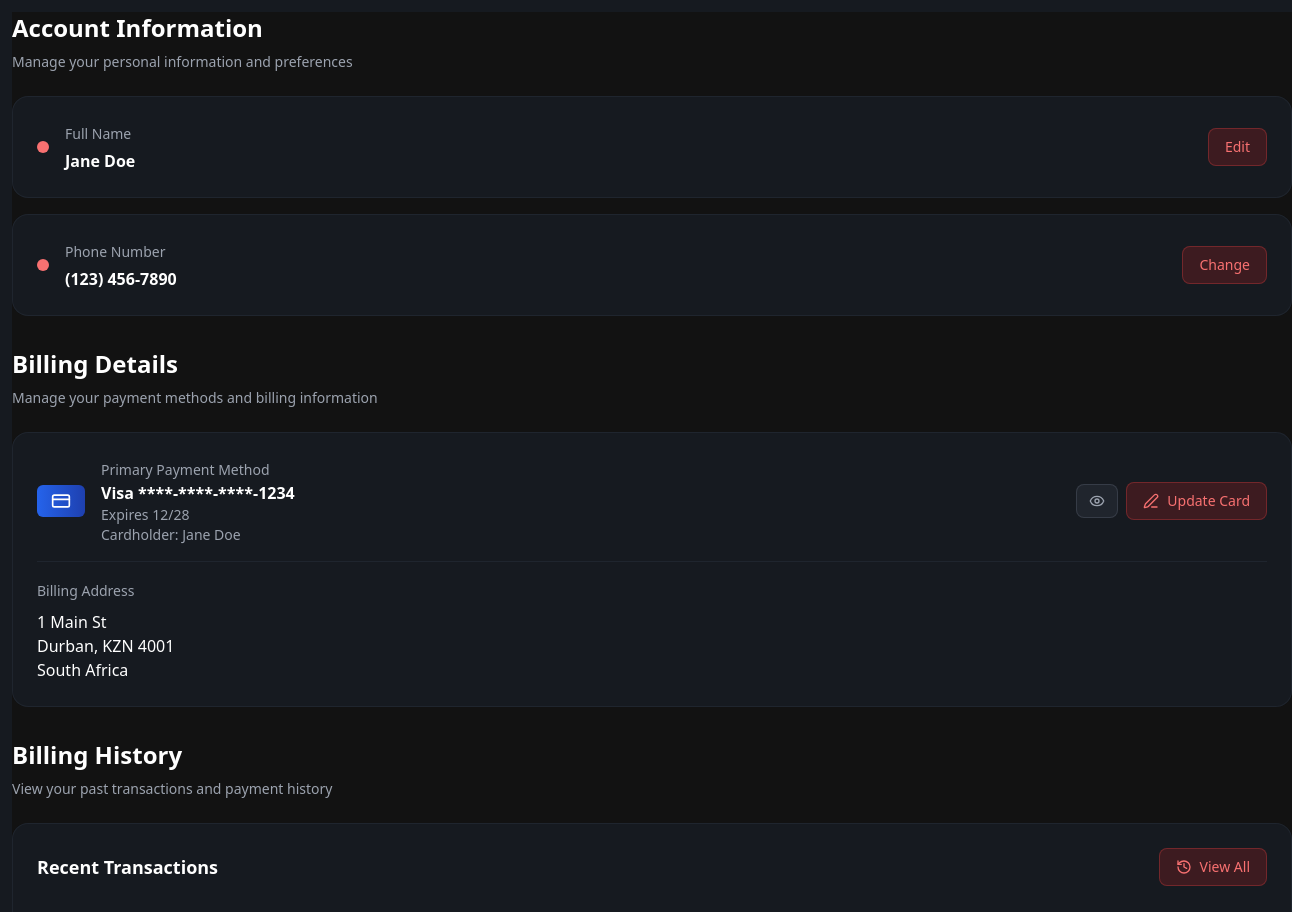
Test case: MembershipBilling › cancel phone edit restores original value and skips update
This screenshot has width=1292, height=912.
Click the button "Change" at (1225, 265), box 1182,246 -> 1267,284
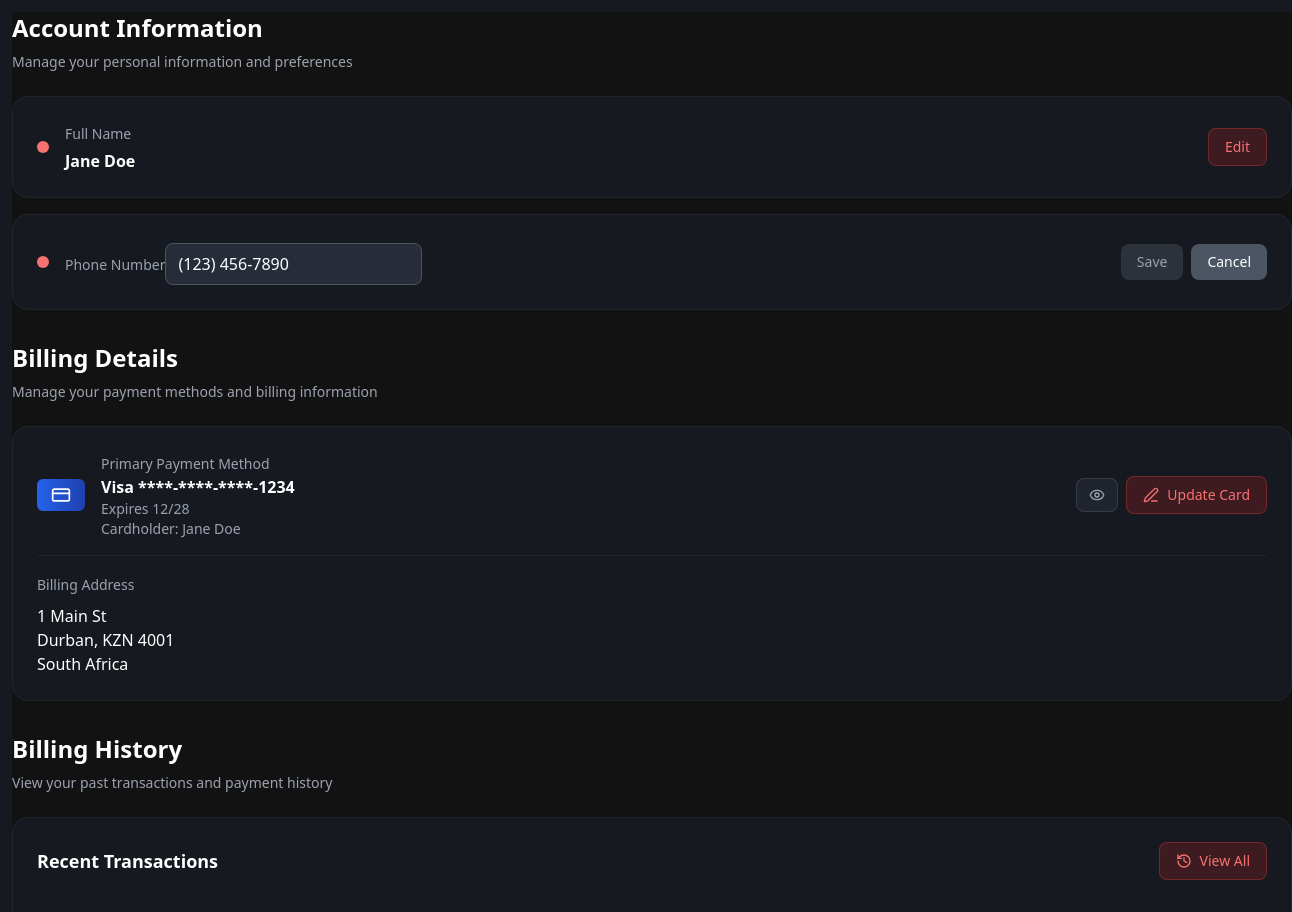
Replace the text in the field labelled "Phone Number" with "123" at (294, 264), box 166,243 -> 422,285
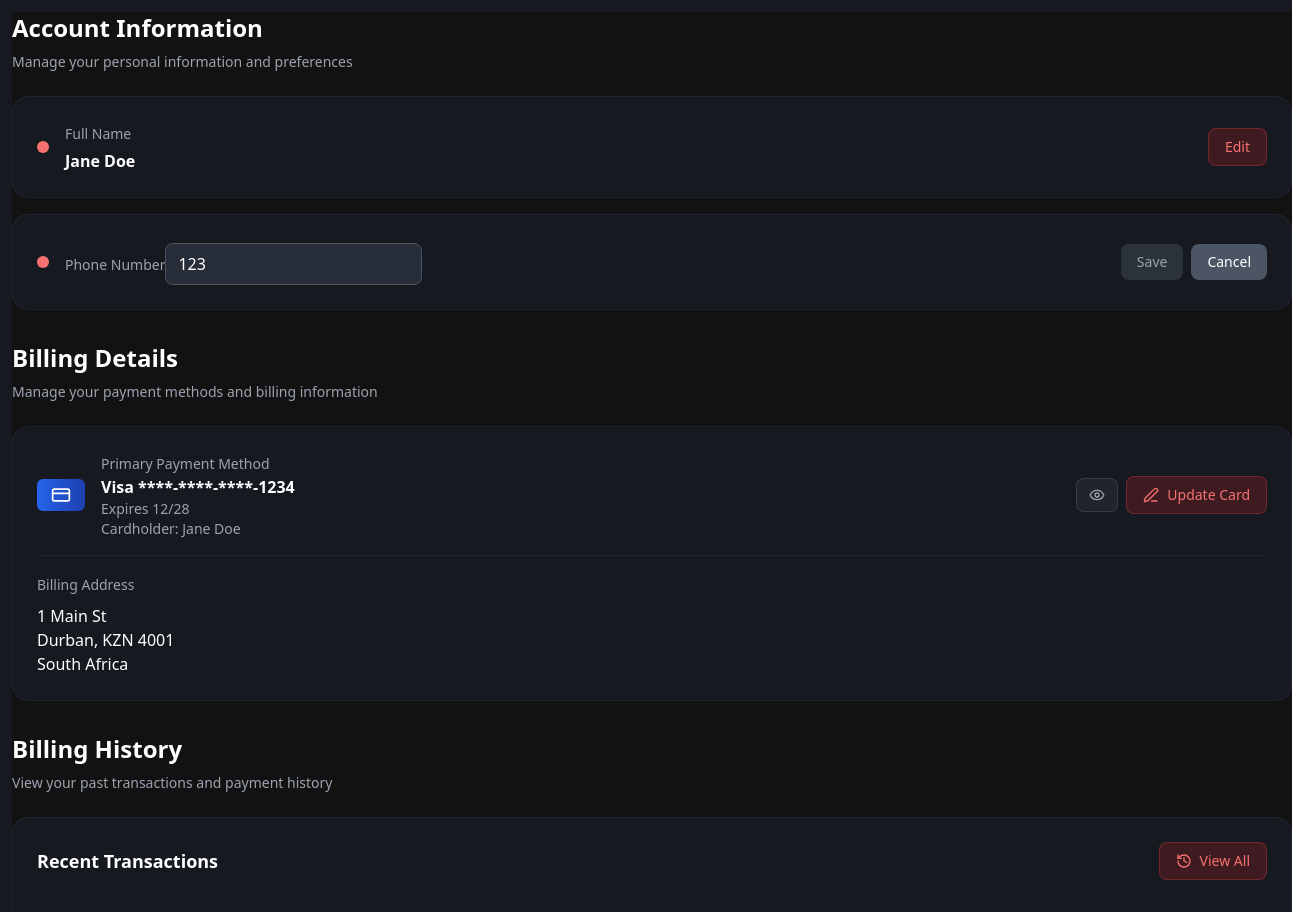
Expected: the button "Save" is disabled, 1121,244 -> 1183,280
Replace the text in the field labelled "Phone Number" with "1234567890" at (294, 264), box 166,243 -> 422,285
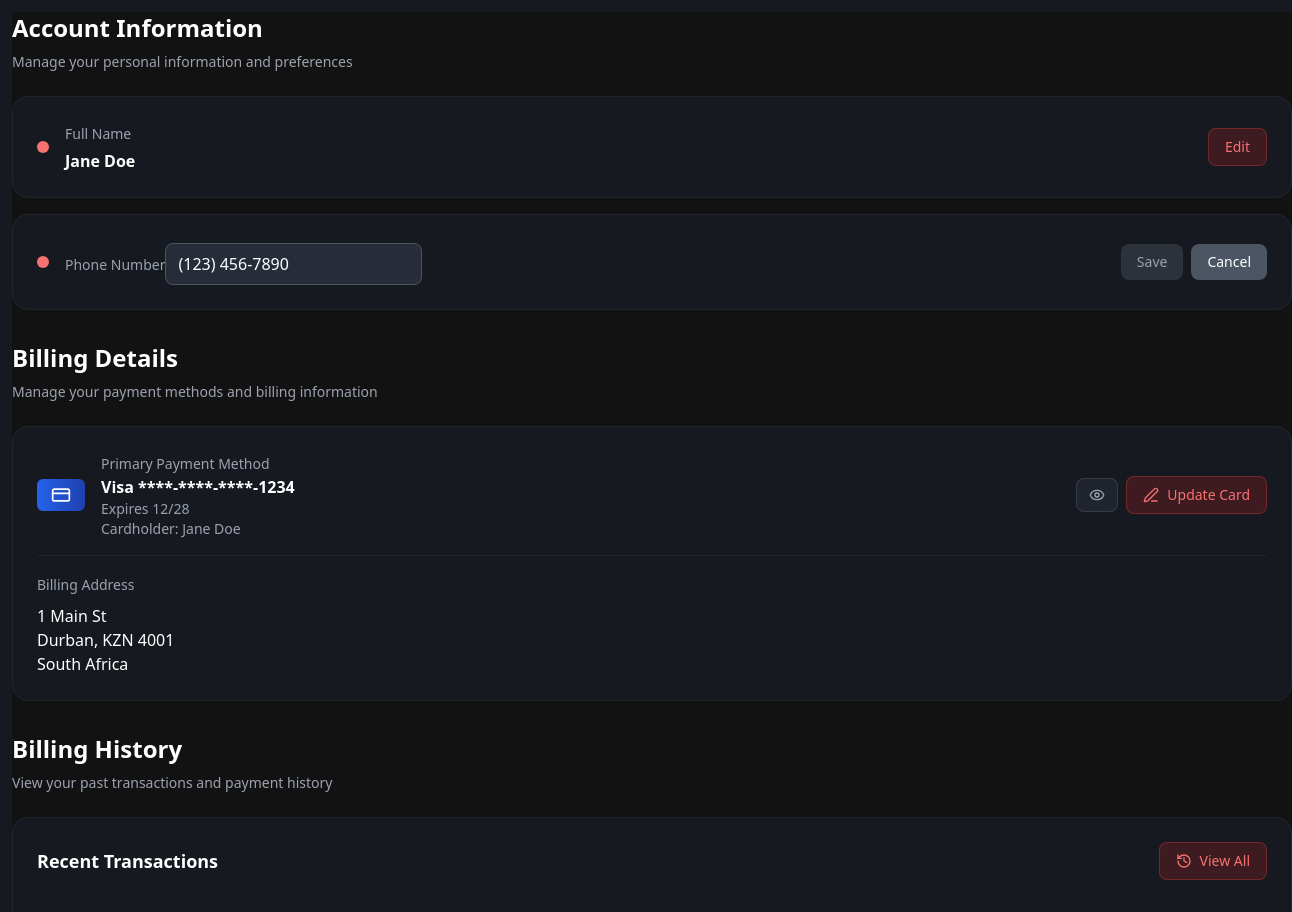
Expected: the button "Save" is disabled, 1121,244 -> 1183,280
Replace the text in the field labelled "Phone Number" with "2223334444" at (294, 264), box 166,243 -> 422,285
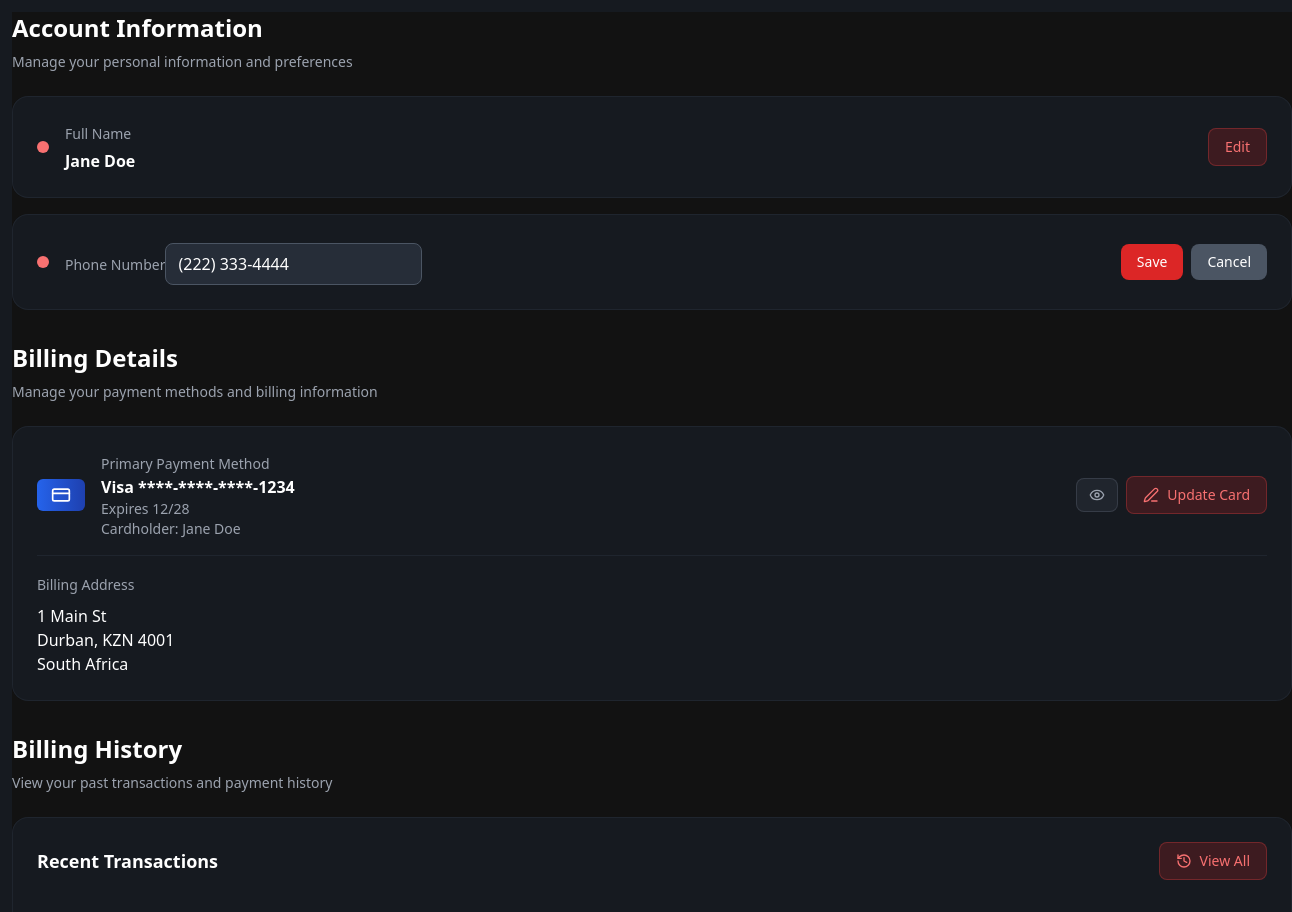
Expected: the button "Save" is enabled, 1121,244 -> 1183,280
Click the button "Cancel" at (1229, 262), box 1191,244 -> 1267,280
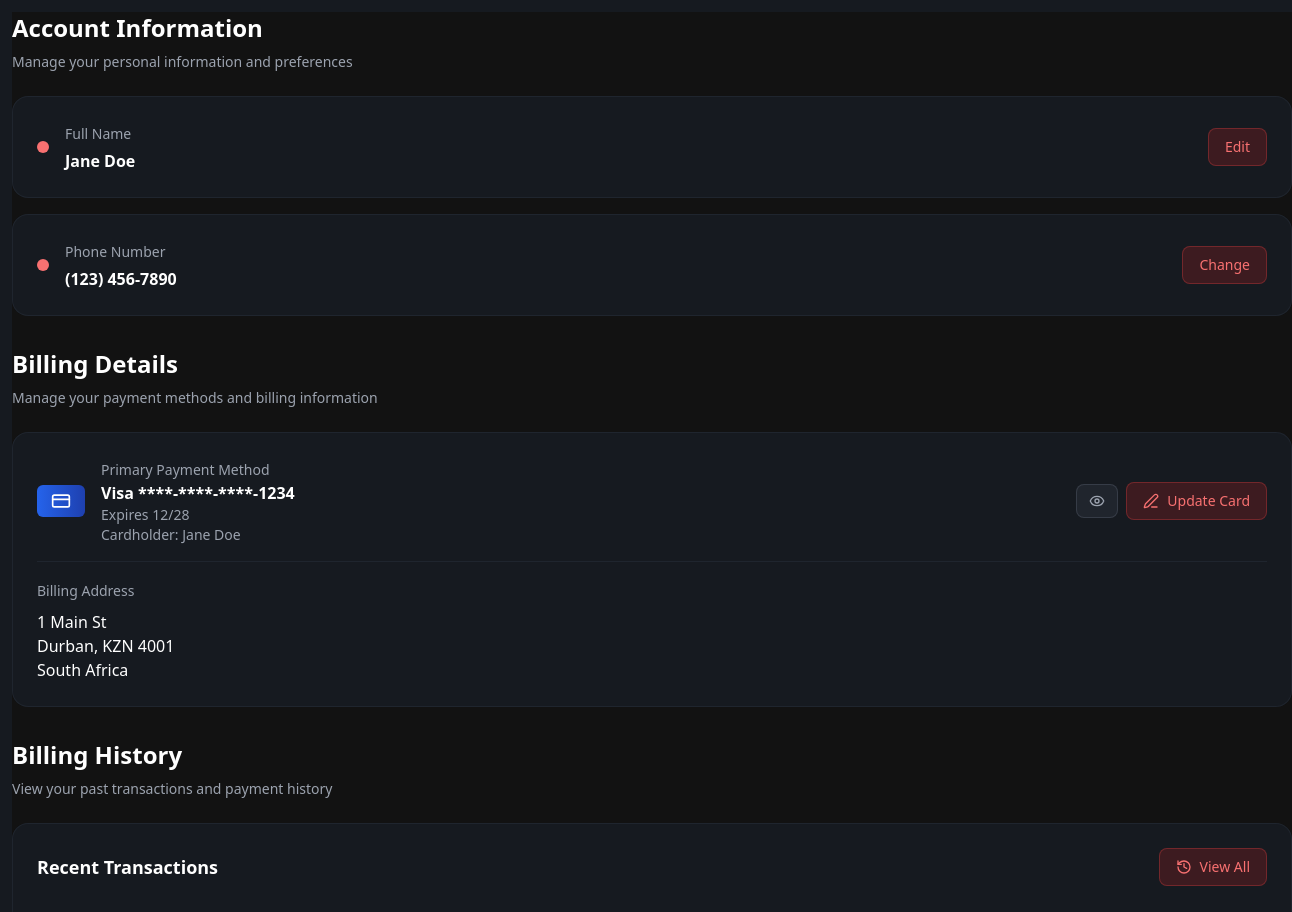
Expected: the text "(123) 456-7890" is shown, 65,267 -> 177,291
